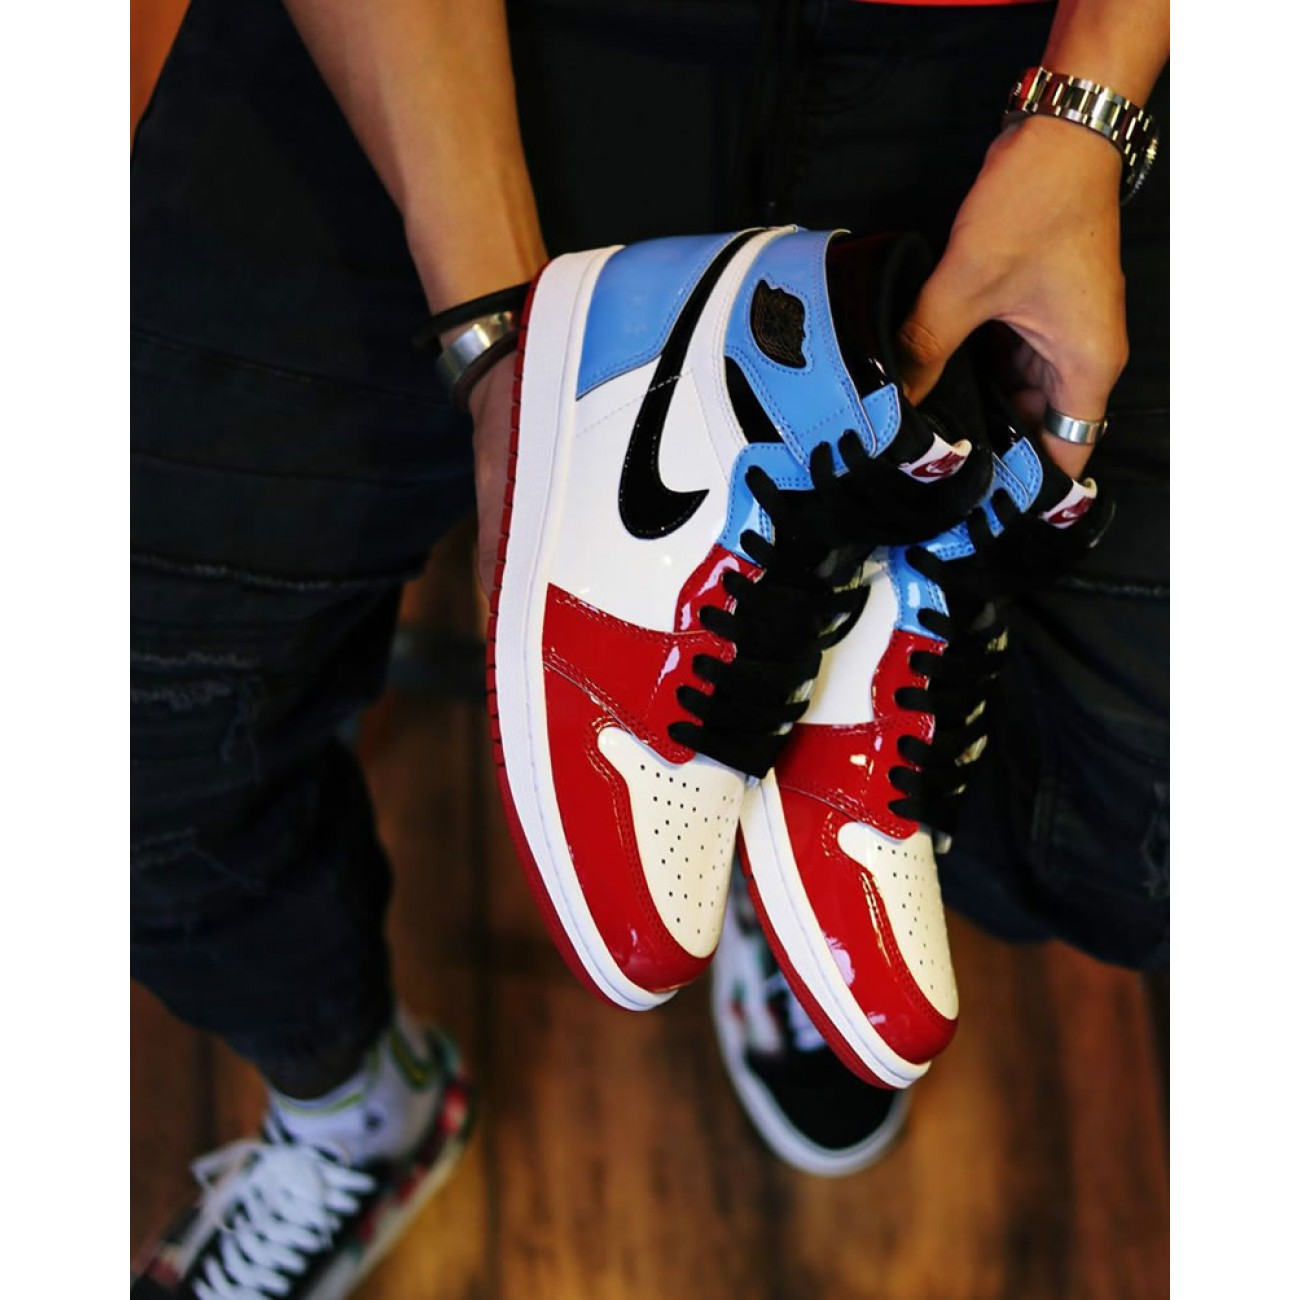Jordan 1: (476, 207, 978, 1020)
